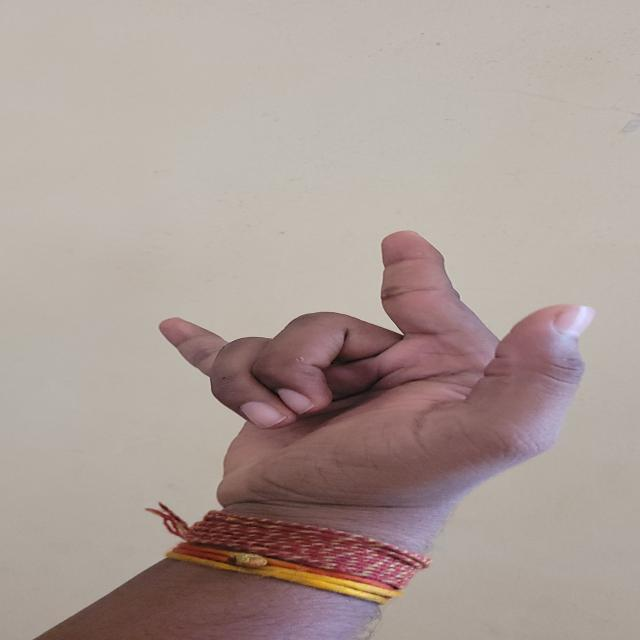i like you: (104, 220, 622, 529)
